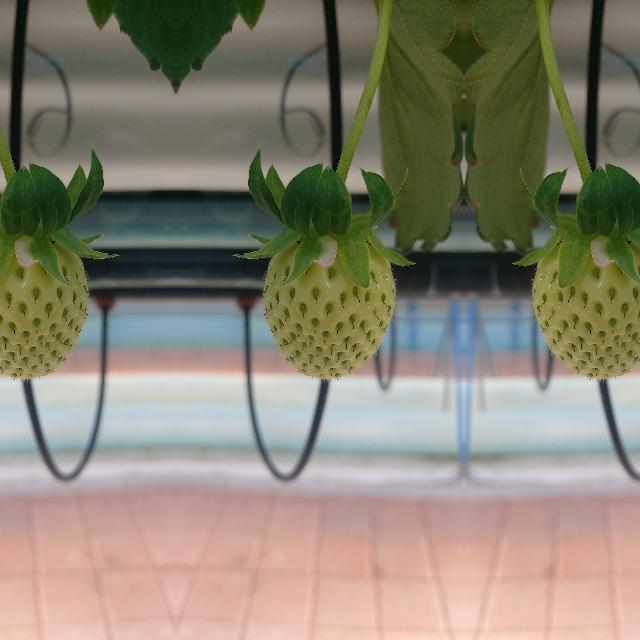Health_25: (262, 236, 394, 378), (531, 236, 640, 377), (0, 236, 88, 377)
